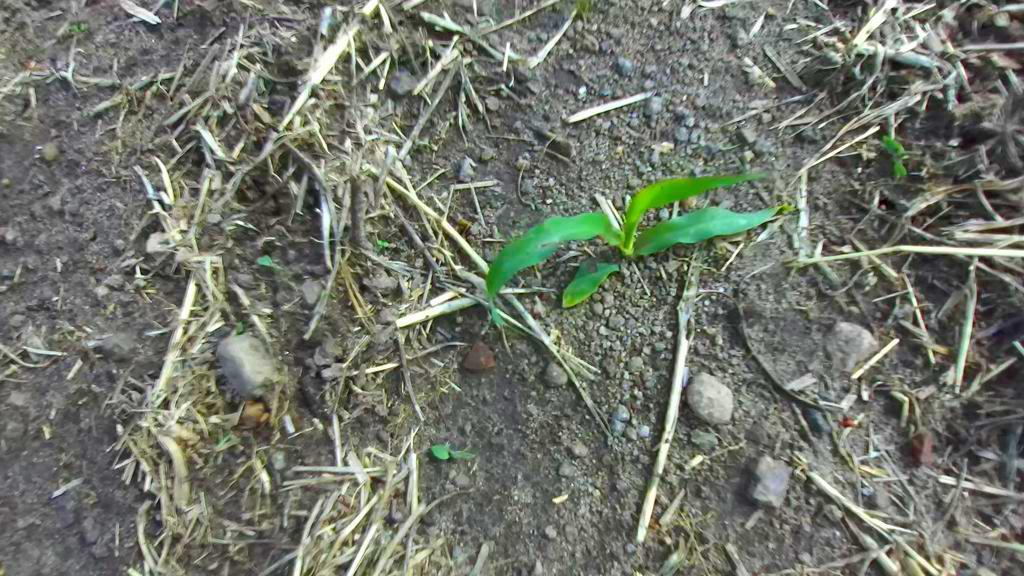BroWeed: (879, 132, 909, 179), (428, 441, 475, 468), (254, 251, 284, 279), (778, 198, 797, 218), (63, 21, 89, 35), (229, 312, 245, 333), (376, 239, 390, 248)
Maize: (470, 128, 788, 335)
